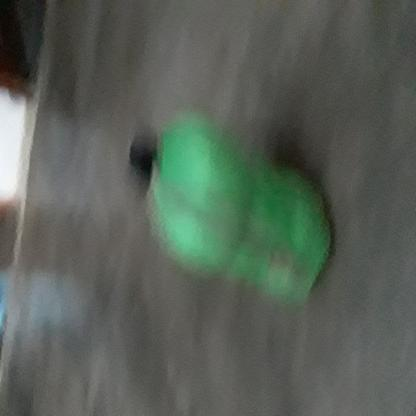bottle: (63, 226, 171, 416)
